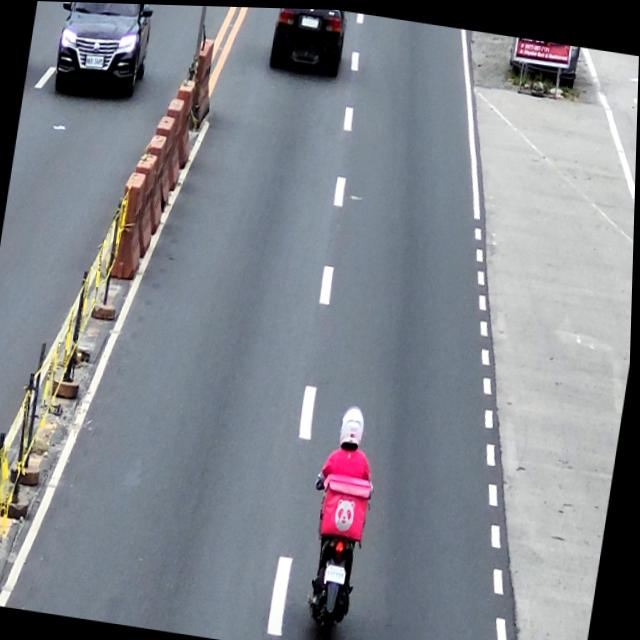Car: (50, 1, 157, 104), (266, 6, 349, 75)
License-Plate: (327, 560, 350, 583), (83, 53, 104, 68), (301, 13, 319, 26)
Motorcycle: (301, 472, 377, 640)
